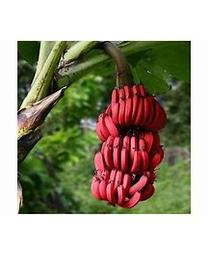banana: (97, 82, 167, 208)
